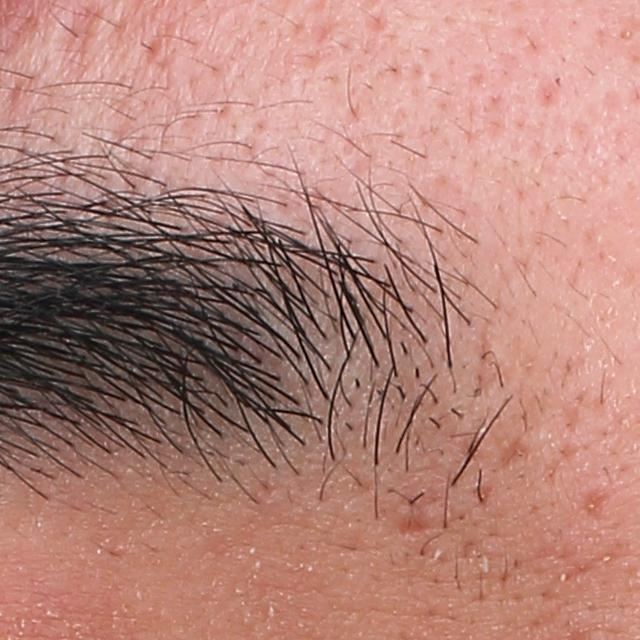atrophic_scar: (56, 6, 114, 96), (502, 440, 531, 472)
comedo: (614, 27, 636, 46)
